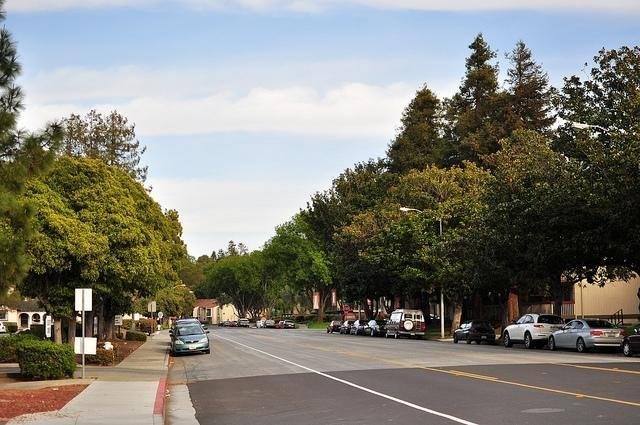car: (548, 318, 627, 352), (502, 313, 566, 348), (169, 324, 211, 354), (452, 319, 496, 344), (169, 318, 210, 335), (369, 319, 398, 340), (621, 327, 640, 358), (350, 320, 369, 336), (326, 321, 343, 334), (262, 318, 276, 328), (280, 320, 294, 328), (223, 322, 232, 328), (218, 322, 224, 326)
truck: (383, 308, 426, 340)
